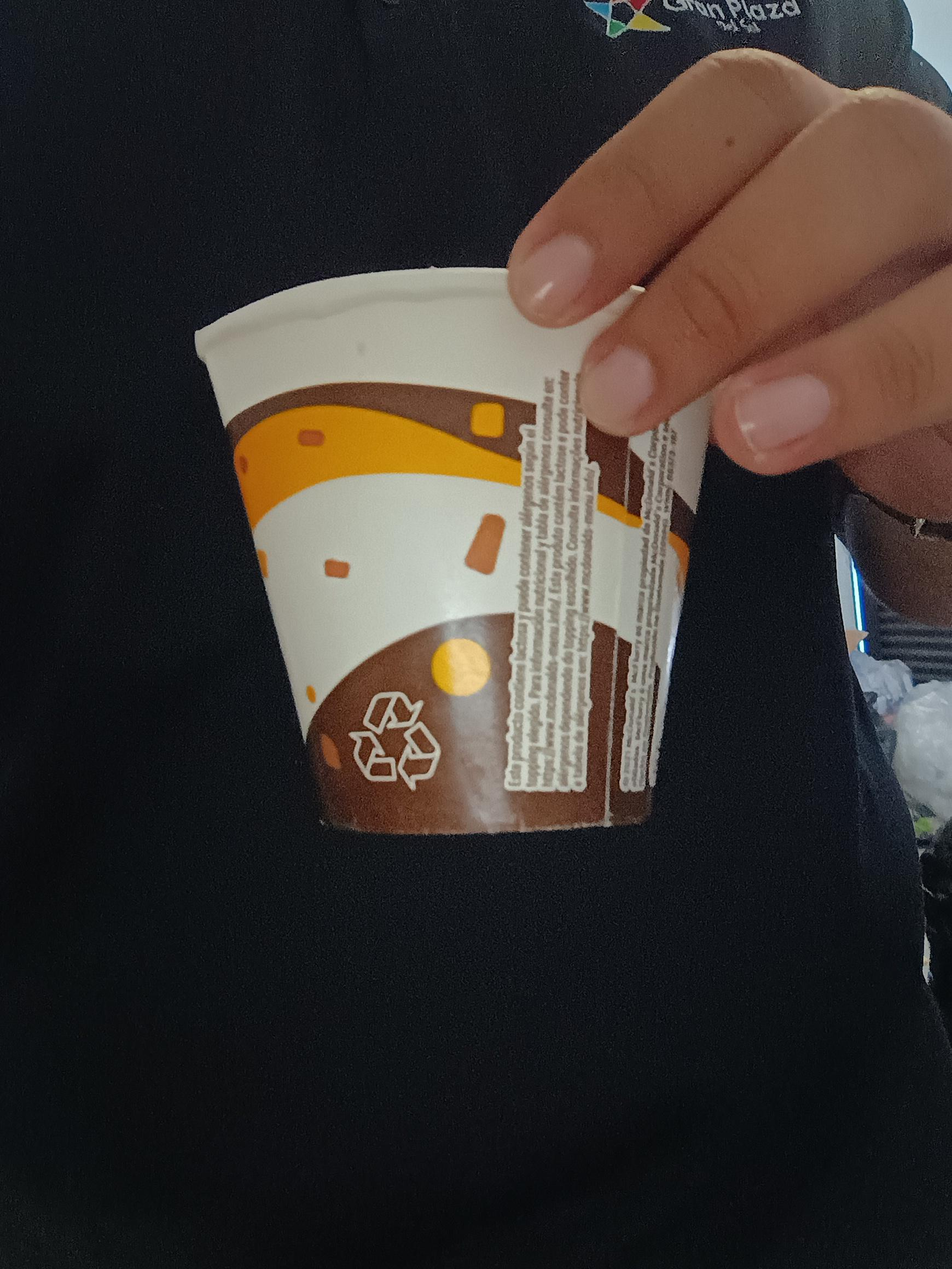Carton: (195, 267, 719, 835)
